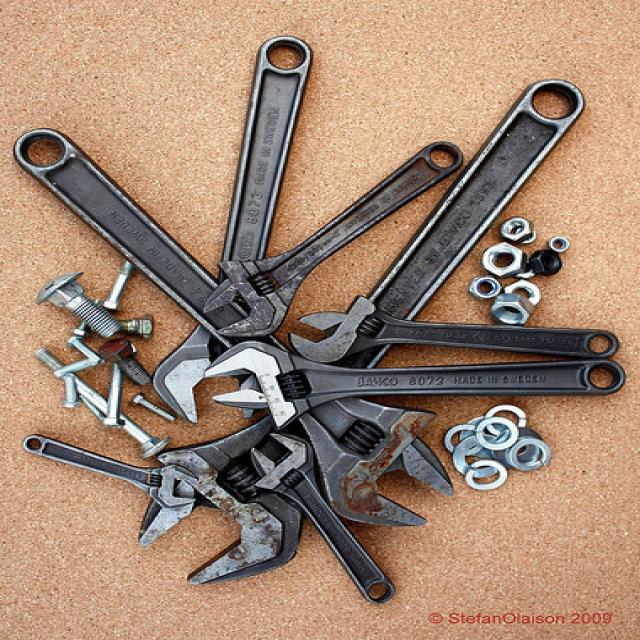wrench: (194, 136, 463, 347), (199, 338, 628, 437), (287, 286, 624, 369)
